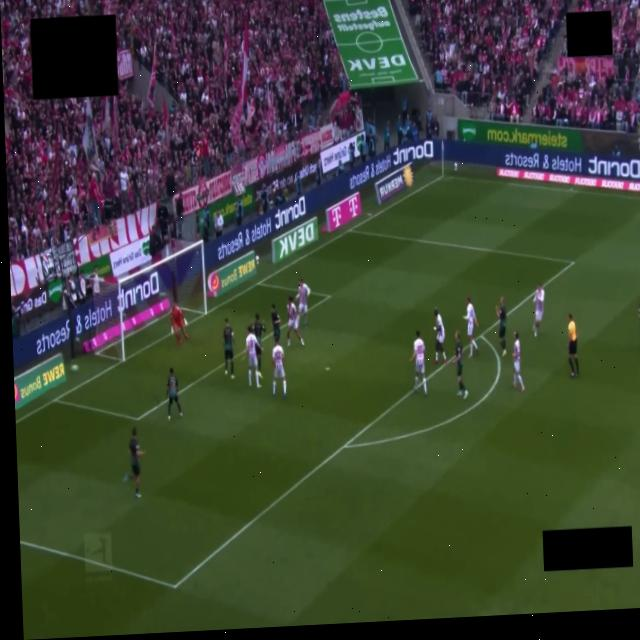player: (129, 428, 144, 498), (452, 331, 467, 399), (410, 331, 426, 394), (245, 326, 260, 387), (464, 296, 478, 357), (272, 336, 286, 396), (286, 297, 303, 346), (251, 314, 265, 372), (166, 368, 181, 420), (170, 305, 188, 344), (512, 332, 523, 391), (495, 297, 506, 356), (434, 309, 446, 363), (223, 318, 233, 379), (297, 280, 309, 327), (533, 285, 543, 336), (271, 304, 280, 338), (638, 301, 639, 326)
referee: (567, 313, 579, 378)
